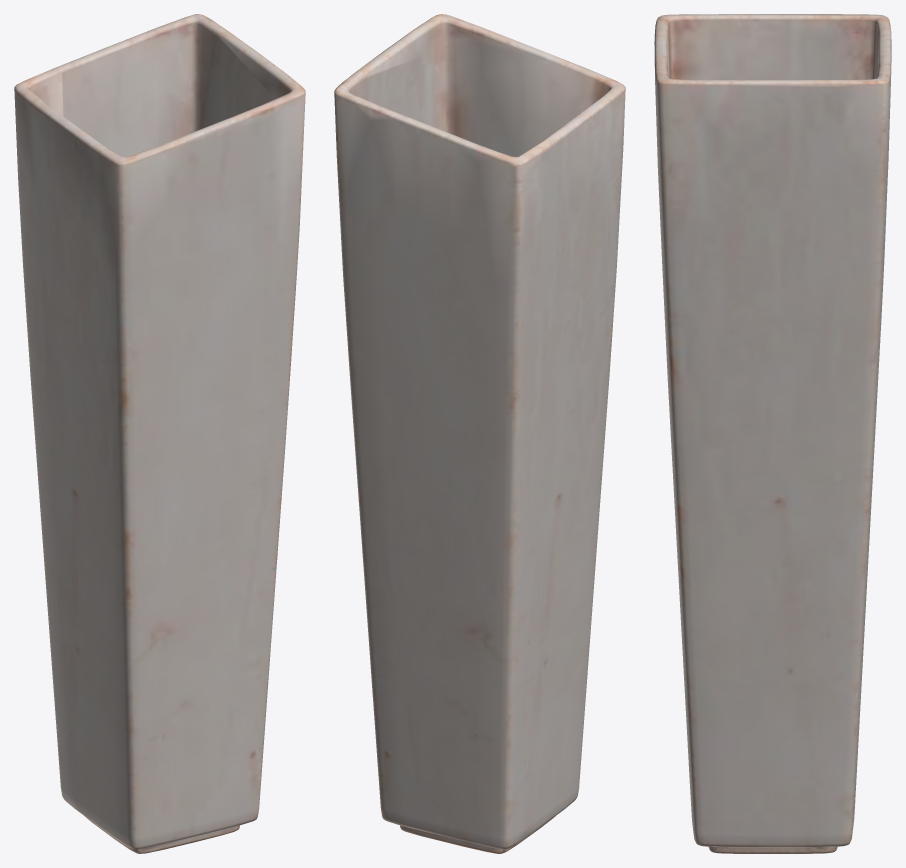
3 views of the same model, side by side, from view 1: azimuth 30°, elevation 25°; view 2: azimuth 150°, elevation 25°; view 3: azimuth 270°, elevation 25° (orthographic). The views are drawn at different scales.
Visible parts, largest first — view 1: ceramic_vase_03; view 2: ceramic_vase_03; view 3: ceramic_vase_03.
Boxes of the visible parts, x1,y1,x2,y2 form: ceramic_vase_03: [14, 14, 305, 853]; ceramic_vase_03: [334, 14, 625, 853]; ceramic_vase_03: [654, 14, 891, 853].
Bounding box in the file's own units: 0.112 × 0.4143 × 0.1121.
1 material, 1 textured.
